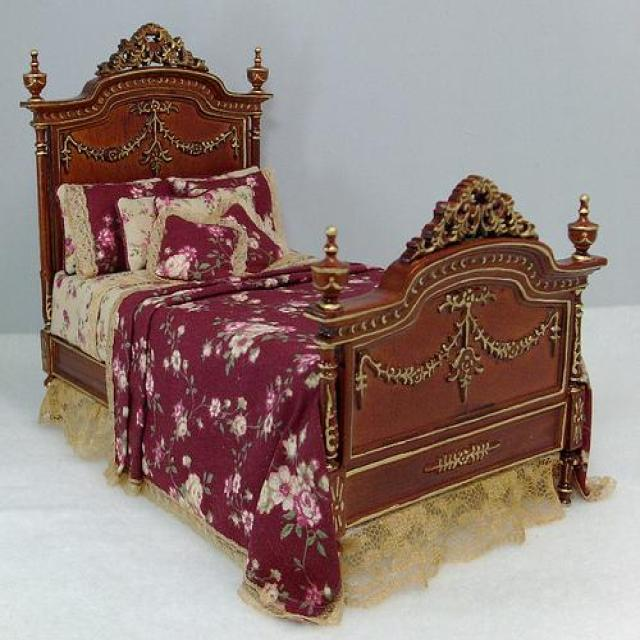bed: (18, 21, 608, 626)
